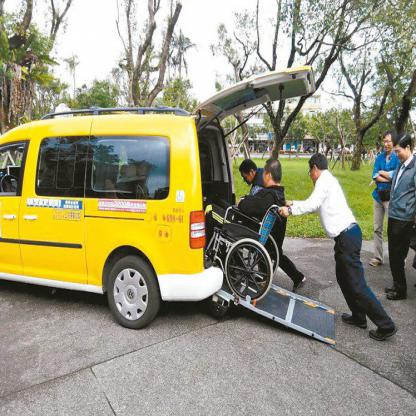wheelchair: (190, 156, 293, 311)
